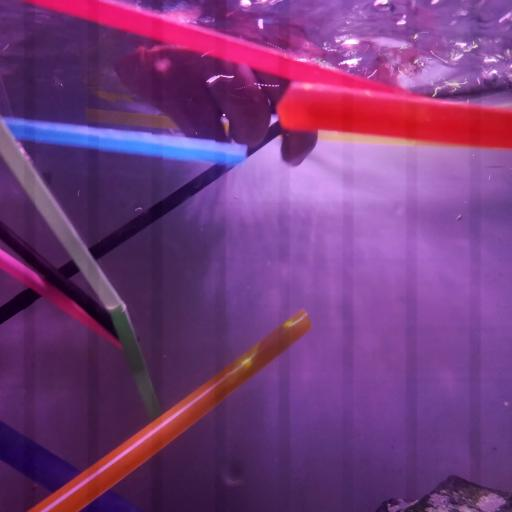plastic_straw: (35, 305, 311, 512), (0, 115, 165, 422), (26, 0, 426, 102), (3, 162, 231, 319), (276, 80, 512, 154), (0, 223, 120, 344), (0, 419, 141, 512), (0, 114, 247, 167), (0, 242, 118, 348)
